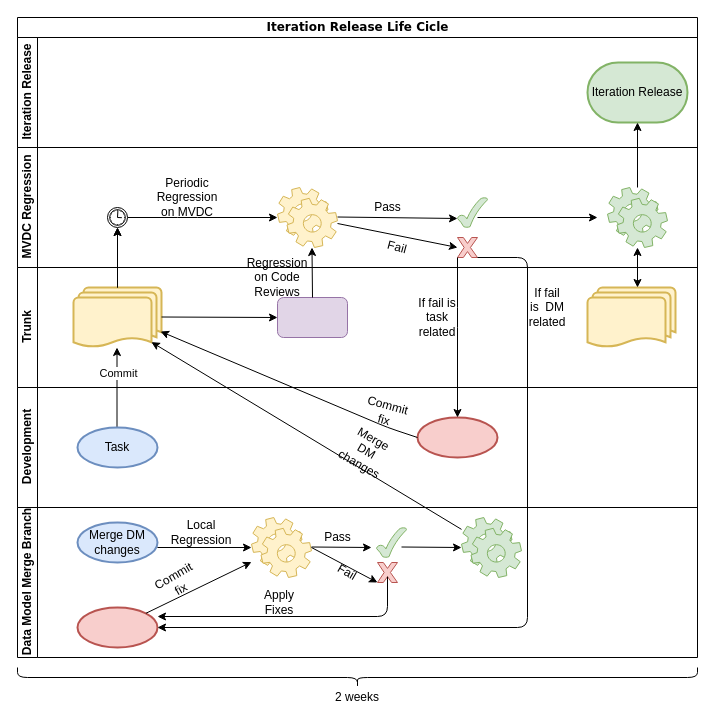
This 715x725 diagram has some shape labels left out. The centre of each missing label's shape, as x and y in pixels:
"Code Review" belongs at pixel 312 317.
"Merge DM changes Fix" belongs at pixel 117 627.
"Project" belongs at pixel 117 317.
"Stable Trunk for Iteration" belongs at pixel 631 317.
"Task Fix" belongs at pixel 457 437.
